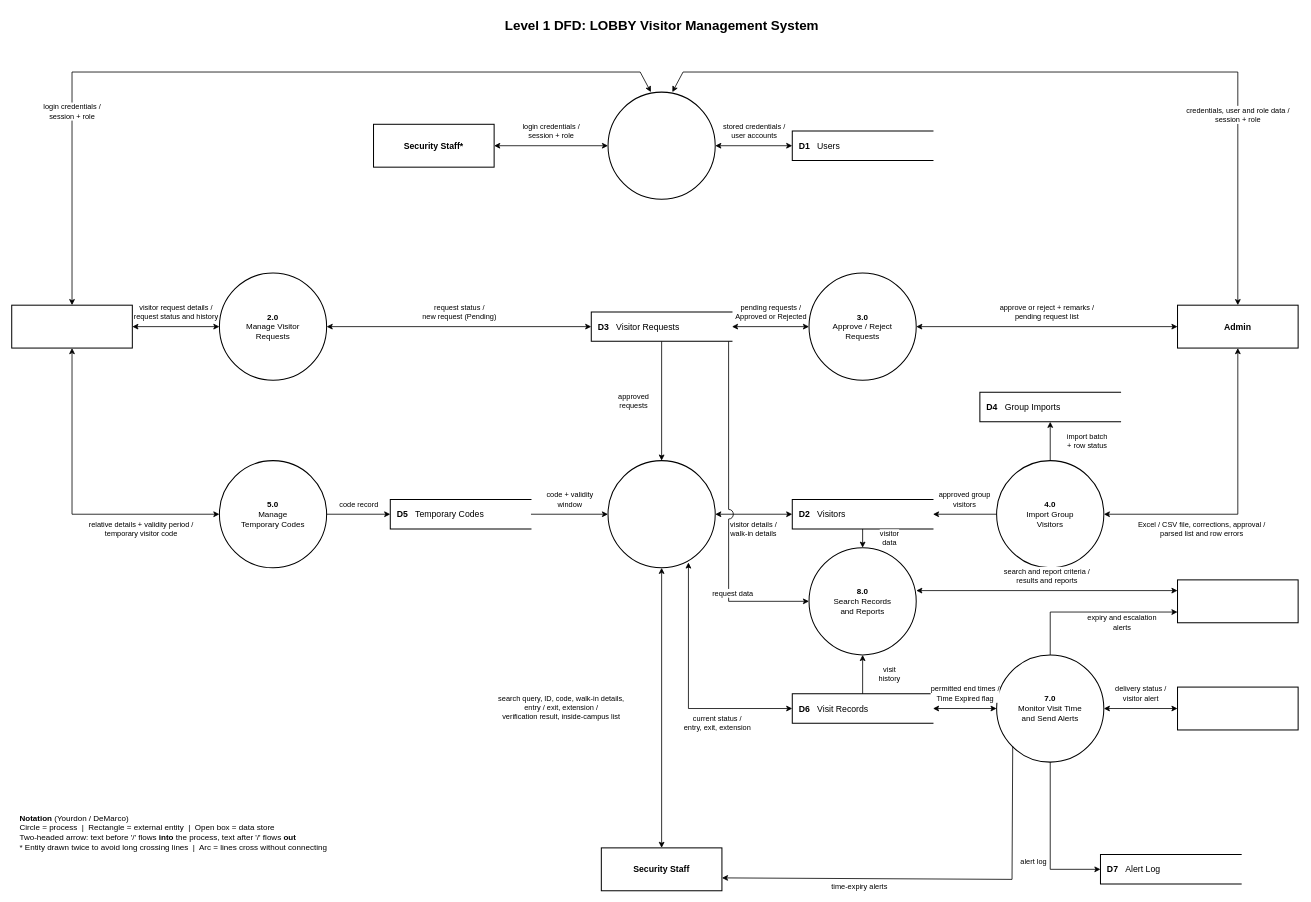
This 1311x902 diagram has some shape labels left out. Each missing label, with the box of its shape:
1.0 Authenticate User: (607, 91, 715, 200)
6.0 Control Gate Entry and Exit: (607, 460, 715, 568)
Admin*: (1177, 579, 1298, 623)
Email / SMS Gateway: (1177, 686, 1298, 730)
Student / Faculty: (11, 304, 133, 348)
